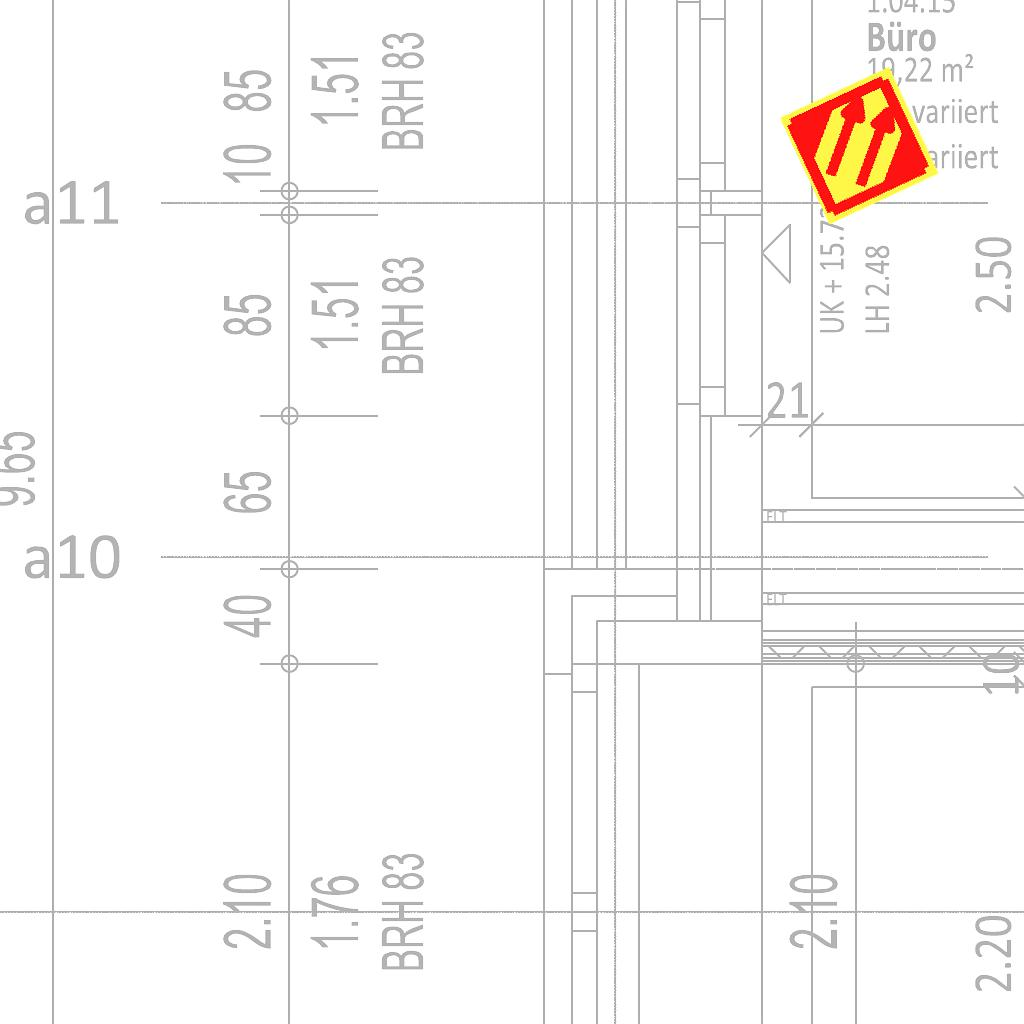ASR_Ansaugrauchmelder: (776, 62, 943, 229)
